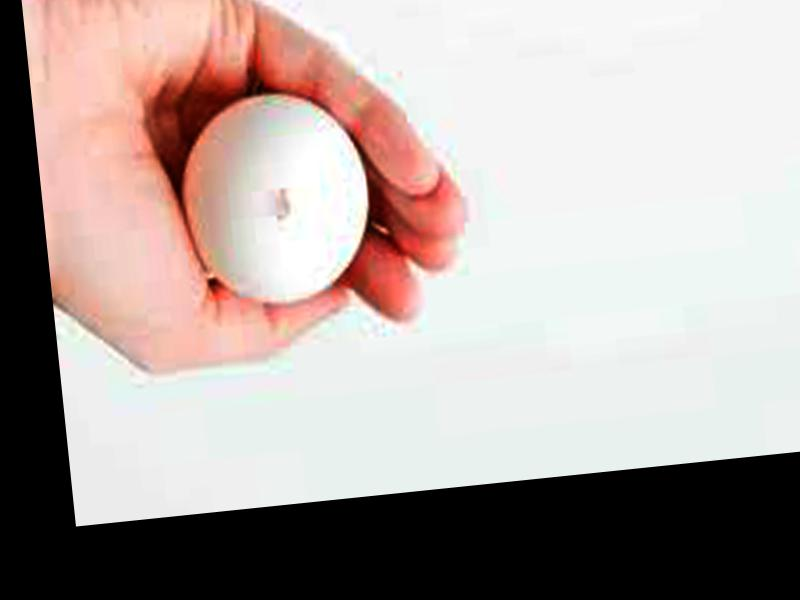Eggs: (175, 88, 378, 305)
